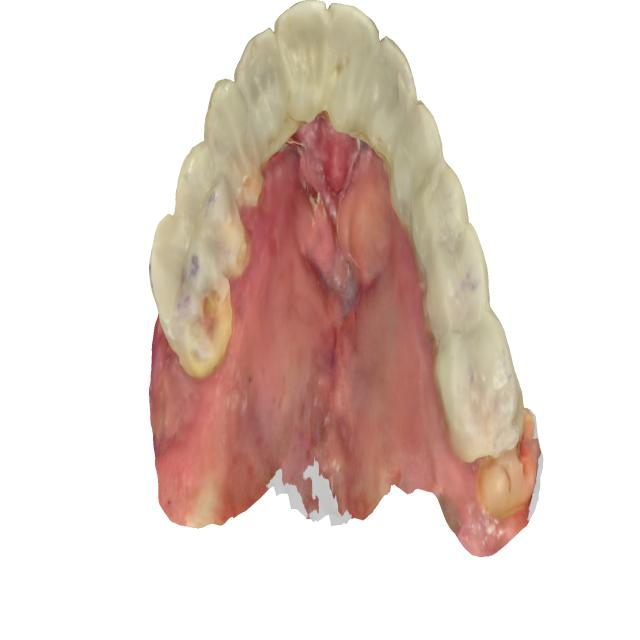tooth: (147, 205, 244, 387), (427, 310, 531, 465), (170, 138, 264, 285), (230, 20, 311, 174), (416, 237, 504, 350), (204, 67, 269, 213), (386, 96, 453, 234), (327, 0, 381, 166), (273, 0, 334, 137), (370, 14, 420, 179), (405, 159, 472, 257), (472, 451, 538, 524)
